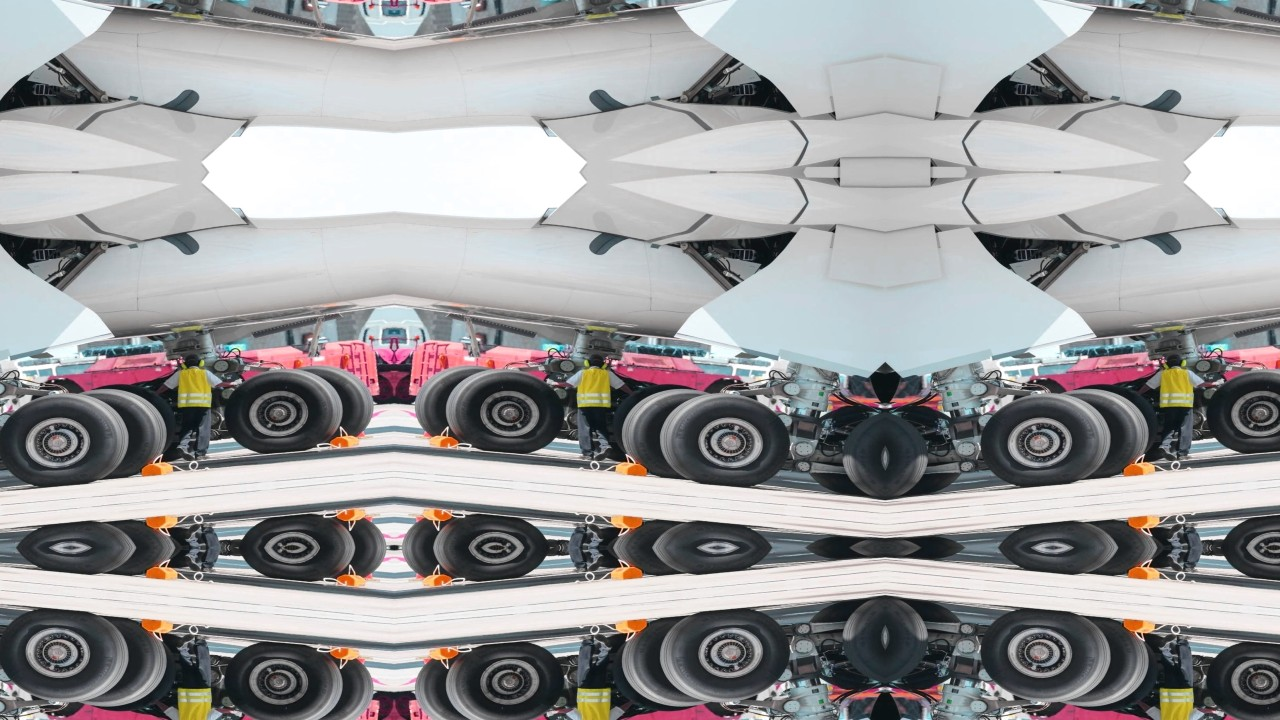chock: (139, 458, 175, 478), (613, 458, 649, 478), (1122, 458, 1158, 478), (139, 618, 175, 638), (613, 618, 649, 638), (1122, 618, 1158, 638), (144, 514, 180, 533), (608, 514, 644, 533), (1127, 514, 1163, 533), (144, 563, 180, 582), (608, 563, 644, 582), (1127, 563, 1163, 582), (334, 507, 367, 524), (421, 507, 454, 524), (334, 572, 367, 589), (421, 572, 454, 589), (327, 434, 360, 450), (428, 434, 461, 450), (327, 646, 360, 662), (428, 646, 461, 662)
wheel: (650, 386, 794, 489), (977, 386, 1121, 489), (650, 607, 794, 710), (977, 607, 1121, 710), (0, 386, 138, 489), (0, 607, 138, 710), (219, 363, 346, 456), (442, 363, 569, 456), (68, 382, 173, 480), (615, 382, 720, 480), (1051, 382, 1156, 480), (68, 616, 173, 714), (615, 616, 720, 714), (1051, 616, 1156, 714), (219, 640, 346, 720), (442, 640, 569, 720), (807, 400, 886, 498), (807, 598, 886, 696), (886, 400, 964, 498), (886, 598, 964, 696), (291, 360, 377, 445), (411, 360, 497, 445), (1202, 363, 1280, 456), (1202, 640, 1280, 720), (291, 651, 377, 720), (411, 651, 497, 720), (885, 404, 935, 500), (885, 596, 935, 692), (836, 404, 885, 500), (836, 596, 885, 692), (233, 512, 359, 548), (429, 512, 555, 548), (233, 548, 359, 584), (429, 548, 555, 584), (80, 517, 185, 548), (603, 517, 708, 548), (1063, 517, 1168, 548), (80, 548, 185, 579), (603, 548, 708, 579), (1063, 548, 1168, 579), (306, 513, 391, 548), (397, 513, 482, 548), (306, 548, 391, 583), (397, 548, 482, 583), (1216, 512, 1280, 548), (1216, 548, 1280, 584), (37, 376, 85, 399), (703, 376, 751, 399), (1020, 376, 1068, 399), (37, 697, 85, 720), (703, 697, 751, 720), (1020, 697, 1068, 720), (371, 375, 394, 405), (394, 375, 417, 405), (371, 691, 394, 720), (394, 691, 417, 720)
